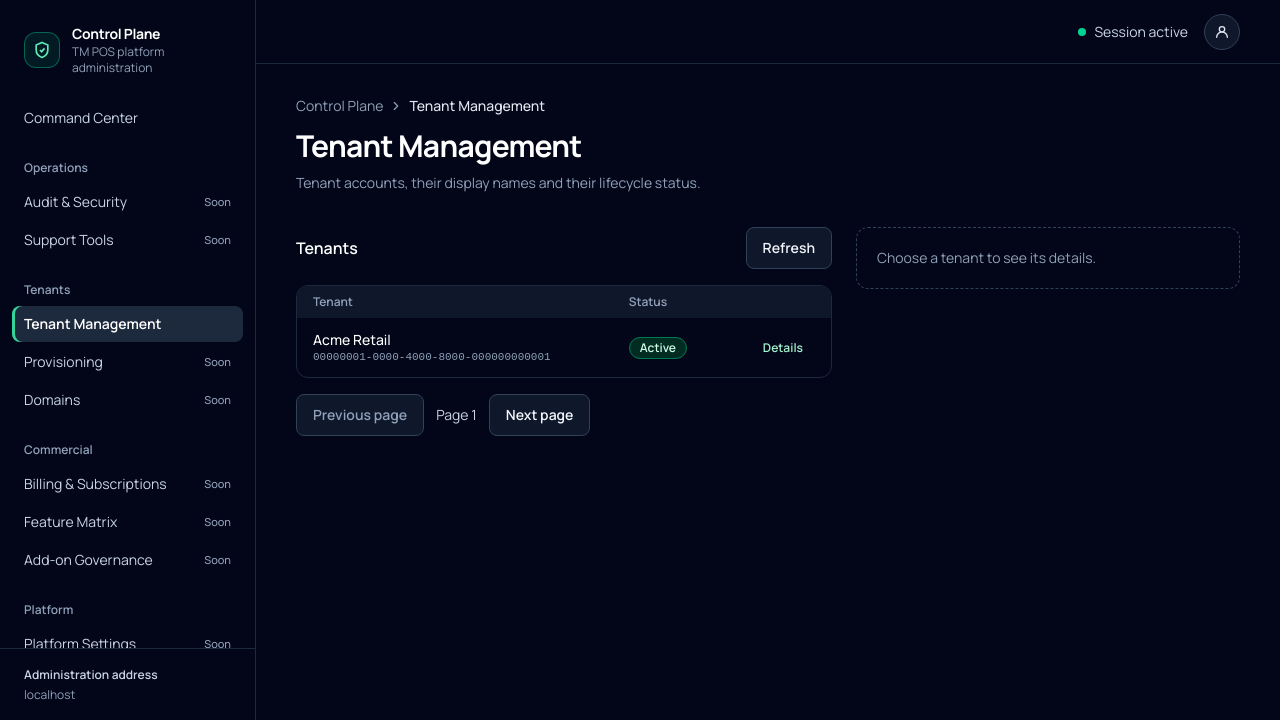
Scenario: Tenant Management: the directory › offers no Next while the requested page failed to load, so the page count never runs ahead of the pages read
Expected: the heading "Tenant Management" is shown, [296, 125, 582, 166]
Click the button "Next page" at (540, 416), box [489, 394, 590, 436]
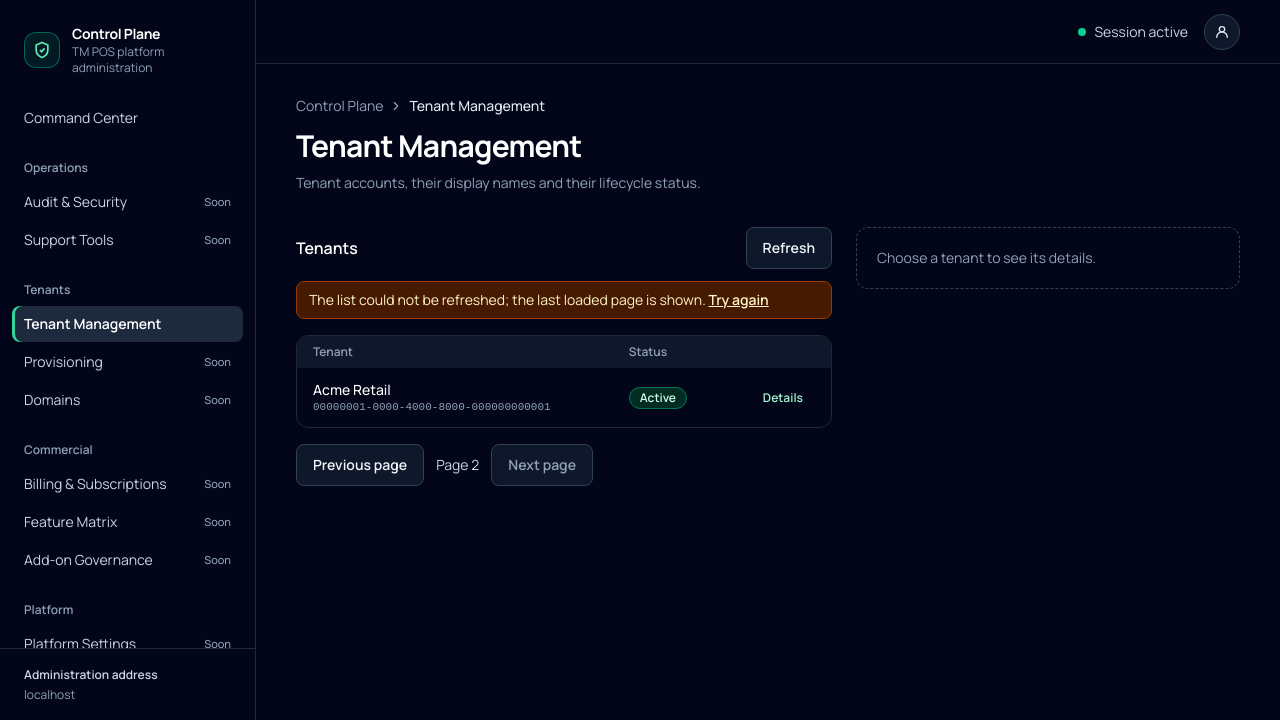
Result: the text "The list could not be refreshed; the last loaded page is shown. Try again" is shown at [296, 281, 832, 319]
Result: the text "Page 2" is shown at [436, 456, 479, 476]
Result: the button "Next page" is disabled at [491, 444, 593, 486]
